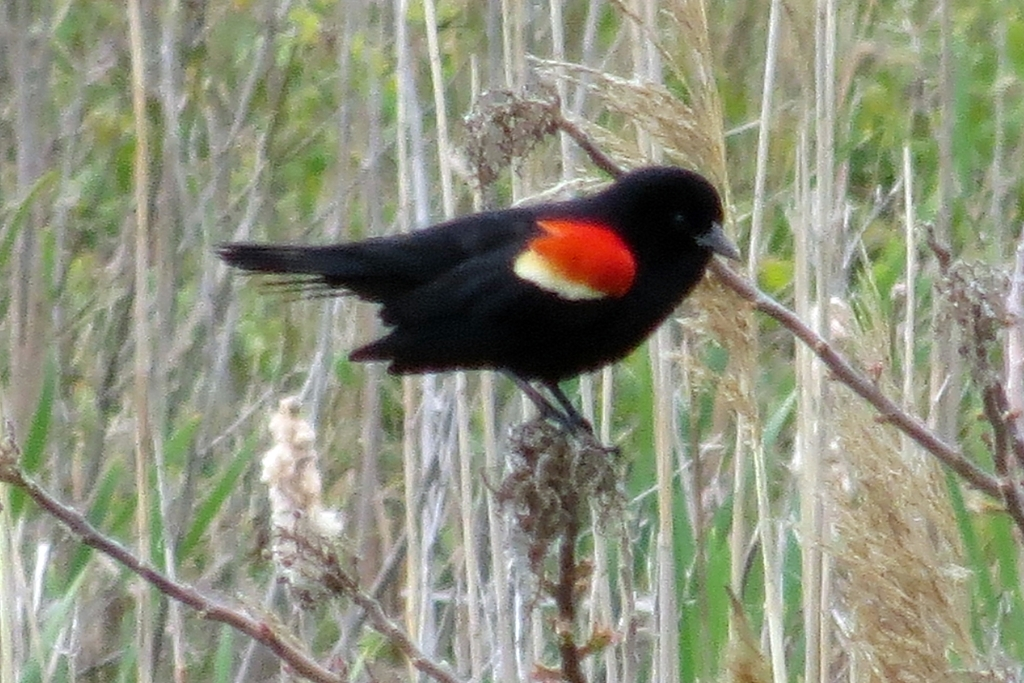Bird: (213, 165, 742, 431)
